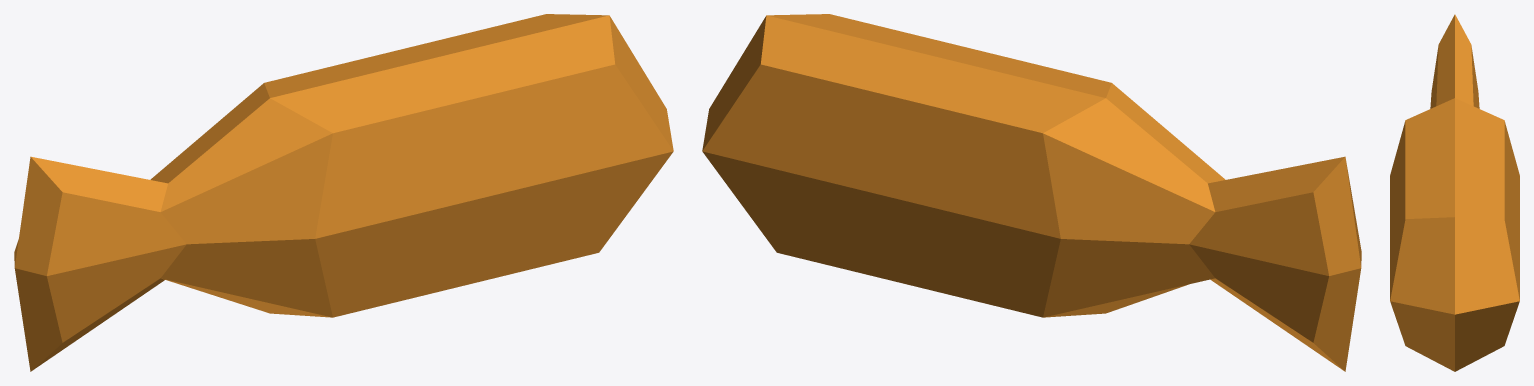
The model's file is Fish.fbx.
3 renders of one model, left to right at view 1: azimuth 30°, elevation 25°; view 2: azimuth 150°, elevation 25°; view 3: azimuth 270°, elevation 25°, orthographic. The views are drawn at different scales.
Visible parts, largest first — view 1: Fish; view 2: Fish; view 3: Fish.
Boxes of the visible parts, x1=… form: Fish: x1=14, y1=14, x2=673, y2=371; Fish: x1=702, y1=14, x2=1361, y2=371; Fish: x1=1390, y1=14, x2=1519, y2=371.
Size of the model in its own units: 241 by 76.03 by 57.76.
